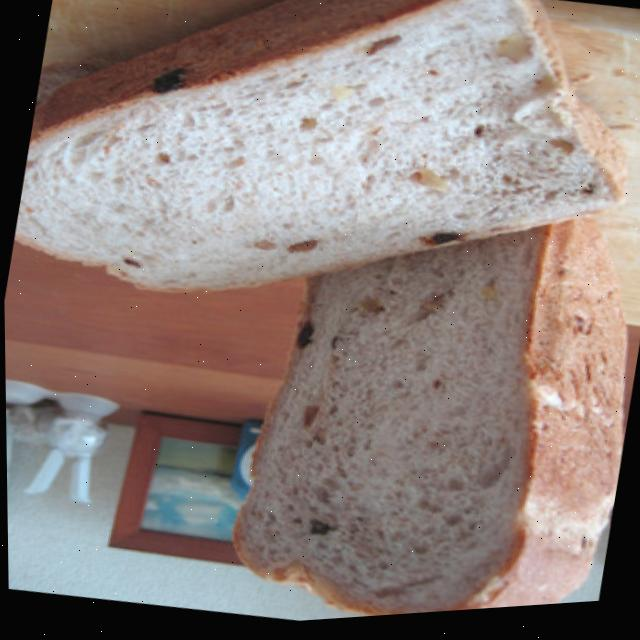面包点心: (0, 0, 640, 537)
